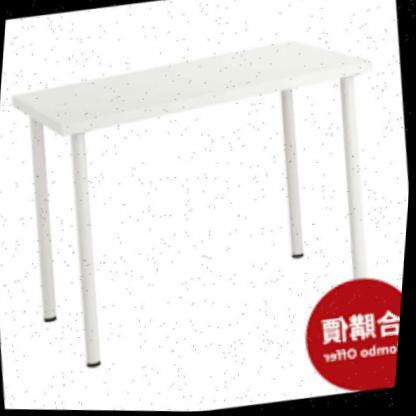Table: (0, 10, 414, 391)
